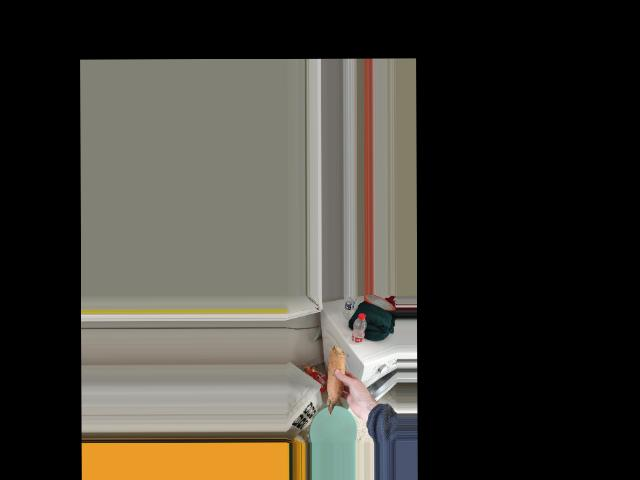sweet_potato: (327, 352, 348, 410)
